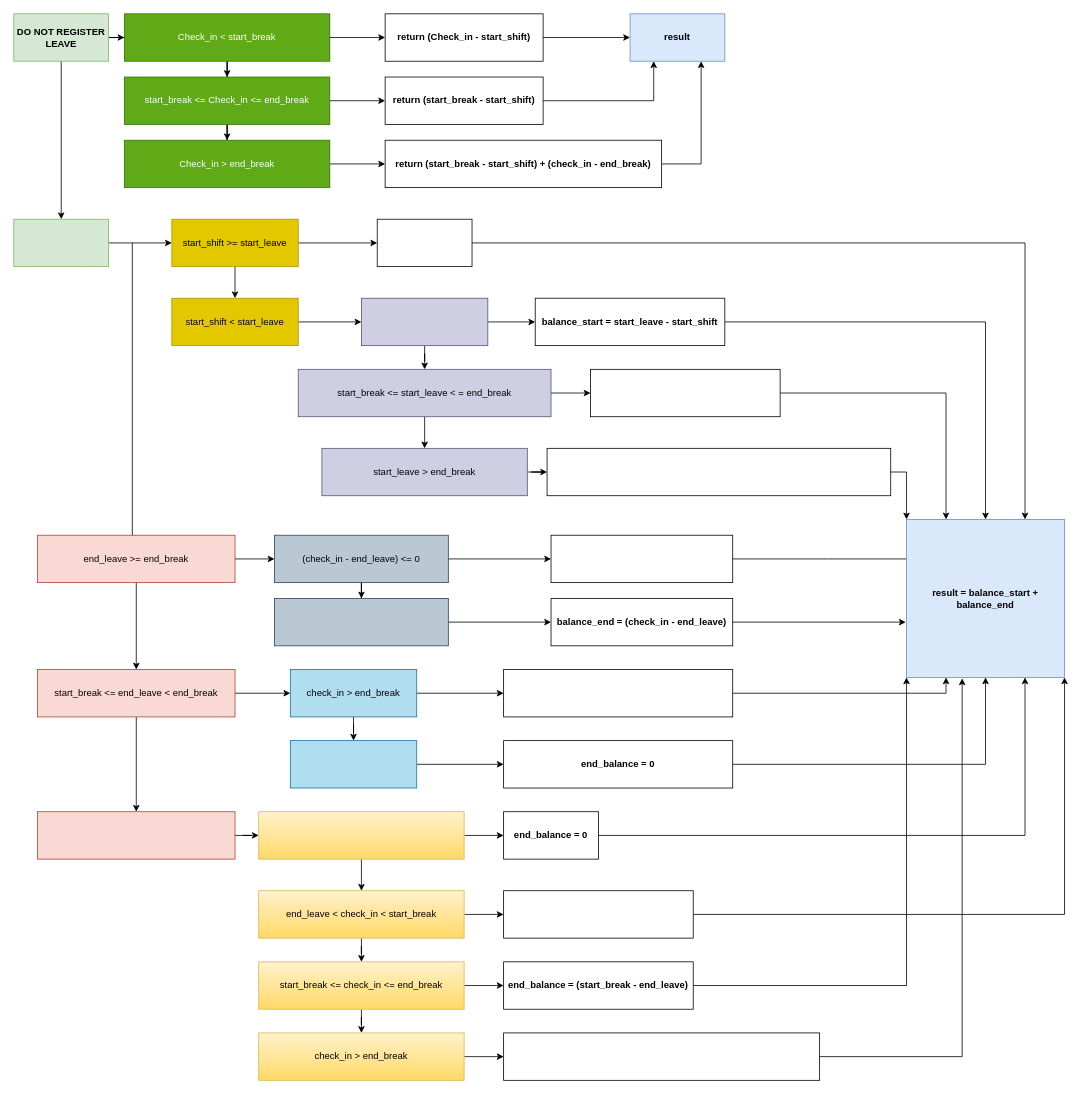
The diagram is 1085 pixels wide and 1094 high, and some of its shapes have lost their labels. The shapes that lost their labels are listed below. From the top down, each one's centre as x and y in pixels, then its label:
the point at 61,242: HAVE REGISTER LEAVE
the point at 424,242: balance_start = 0
the point at 424,321: start_leave < start_break
the point at 685,393: balance_start = start_break - start_shift
the point at 718,472: balance_start = (start_break - start_shift) + (start_leave - end_break)
the point at 641,558: balance_end = 0
the point at 361,622: (check_in - end_leave) > 0
the point at 618,693: end_balance = (check_in - end_break)
the point at 353,764: check_in <= end_break
the point at 136,835: end_leave < start_break
the point at 361,835: check_in <= end_leave
the point at 598,914: end_balance = (check_in - end_leave)
the point at 661,1056: end_balance = (start_break - end_leave) + (check_in - end_break)
